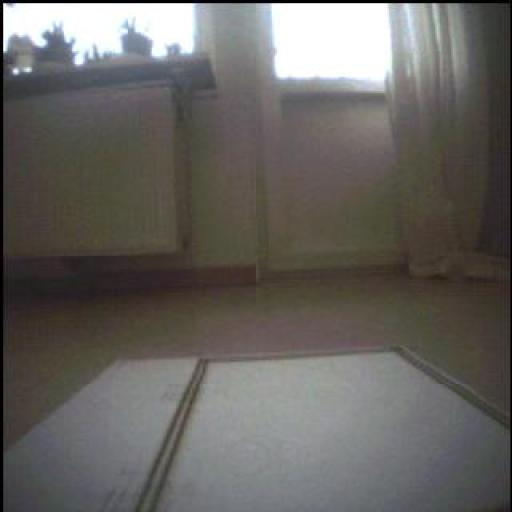Pad: (1, 348, 512, 509)
